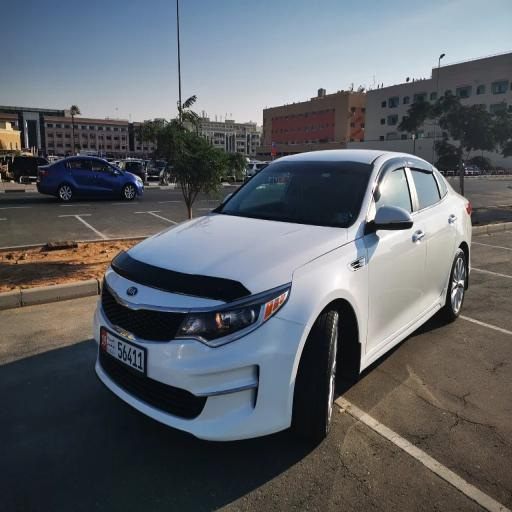license-plates: (101, 328, 144, 373)
